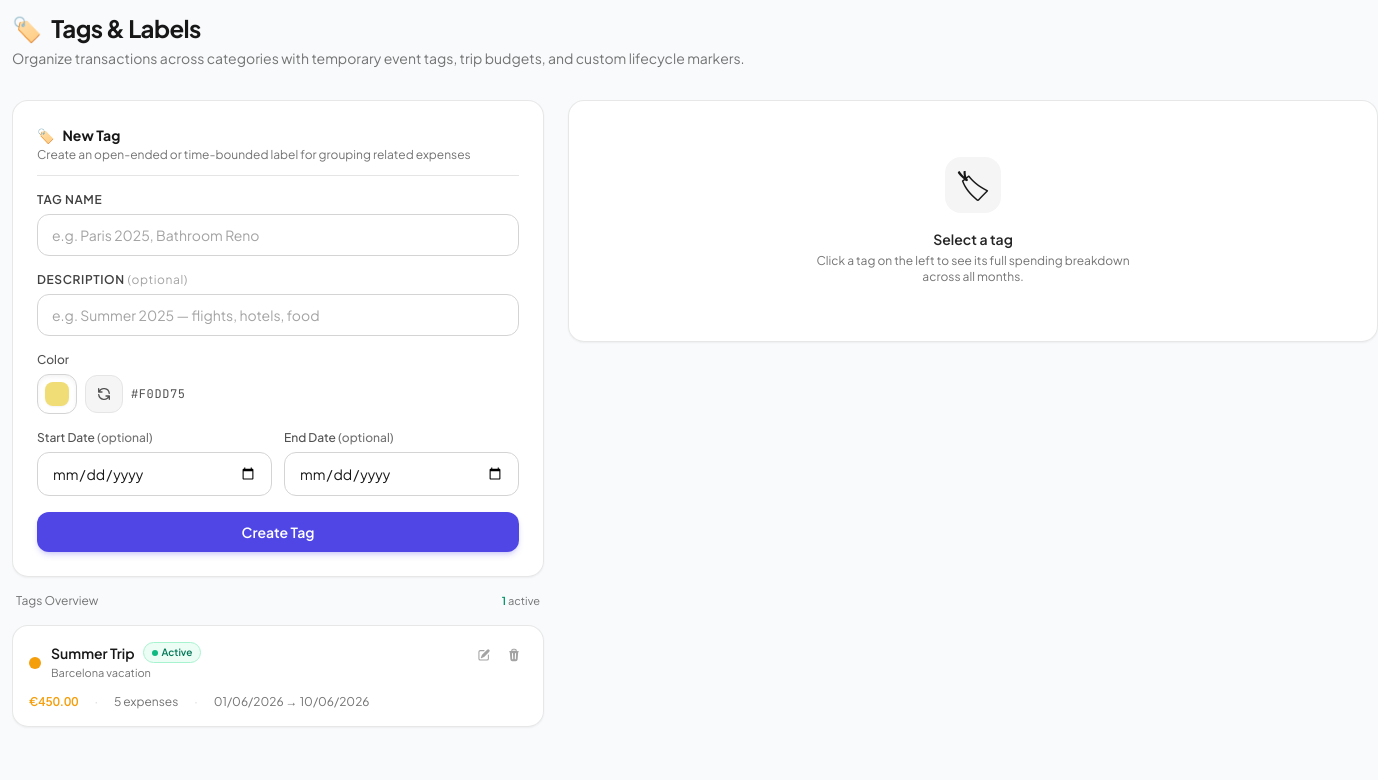
Test case: TagsTab.svelte — Open-Ended Event Label Tags › validates tag creation input (Tag name is required.)
This screenshot has width=1378, height=780.
What coordinates should you click on to do the following:
click the button "Create Tag"
I would click on:
 (278, 532)
Its box is [37, 512, 519, 552].
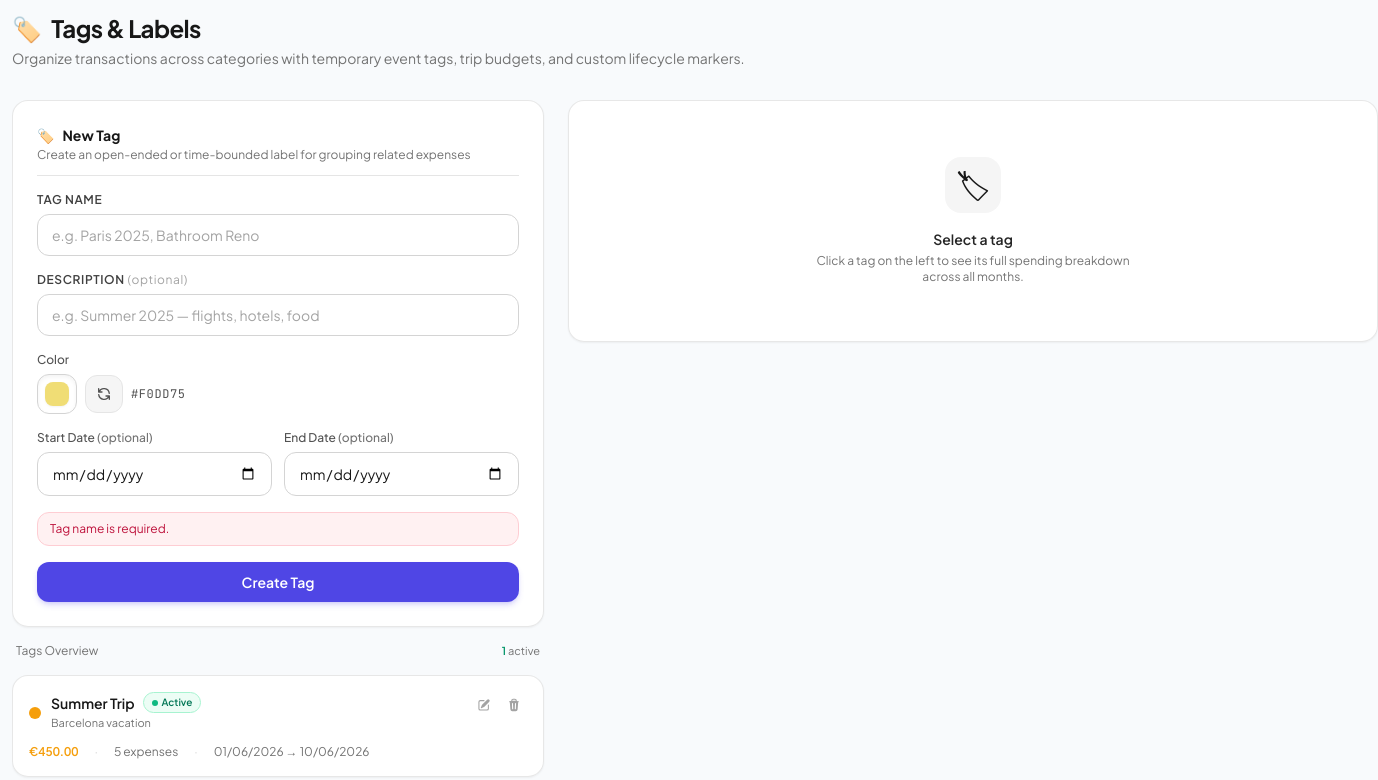
Now the text "Tag name is required." is shown, box [37, 512, 519, 546]
